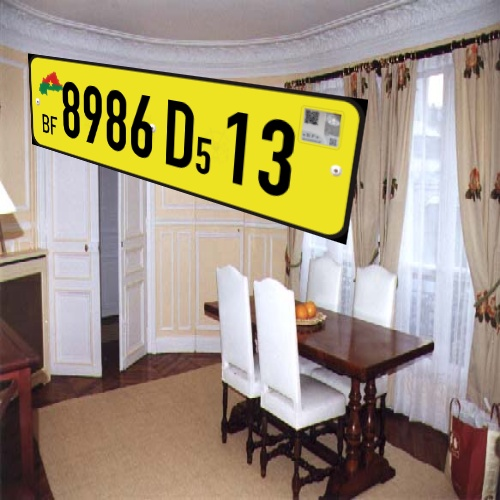plate: (22, 44, 390, 264)
